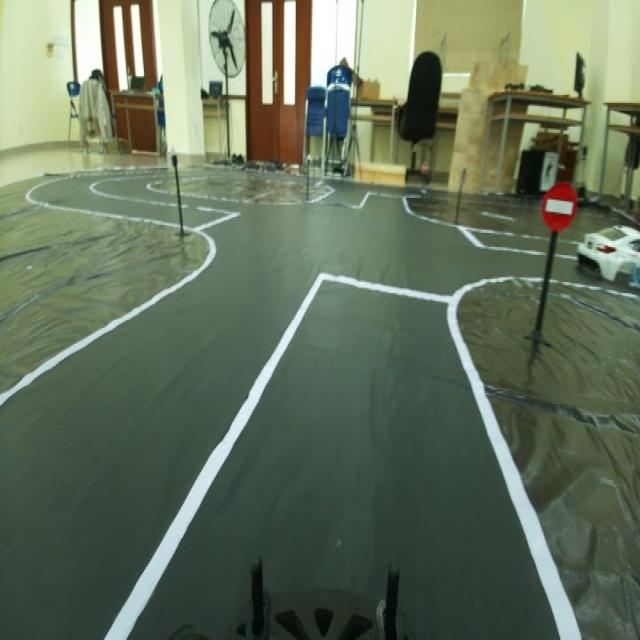no_entry: (544, 160, 575, 238)
